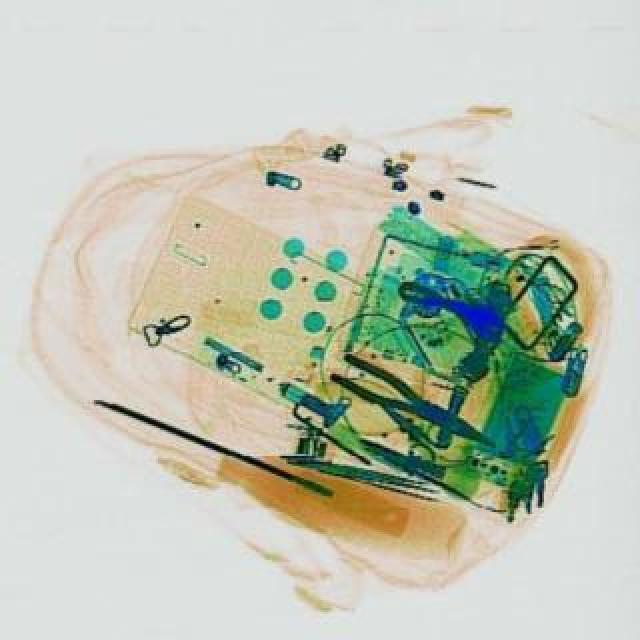wrench: (332, 350, 506, 462)
